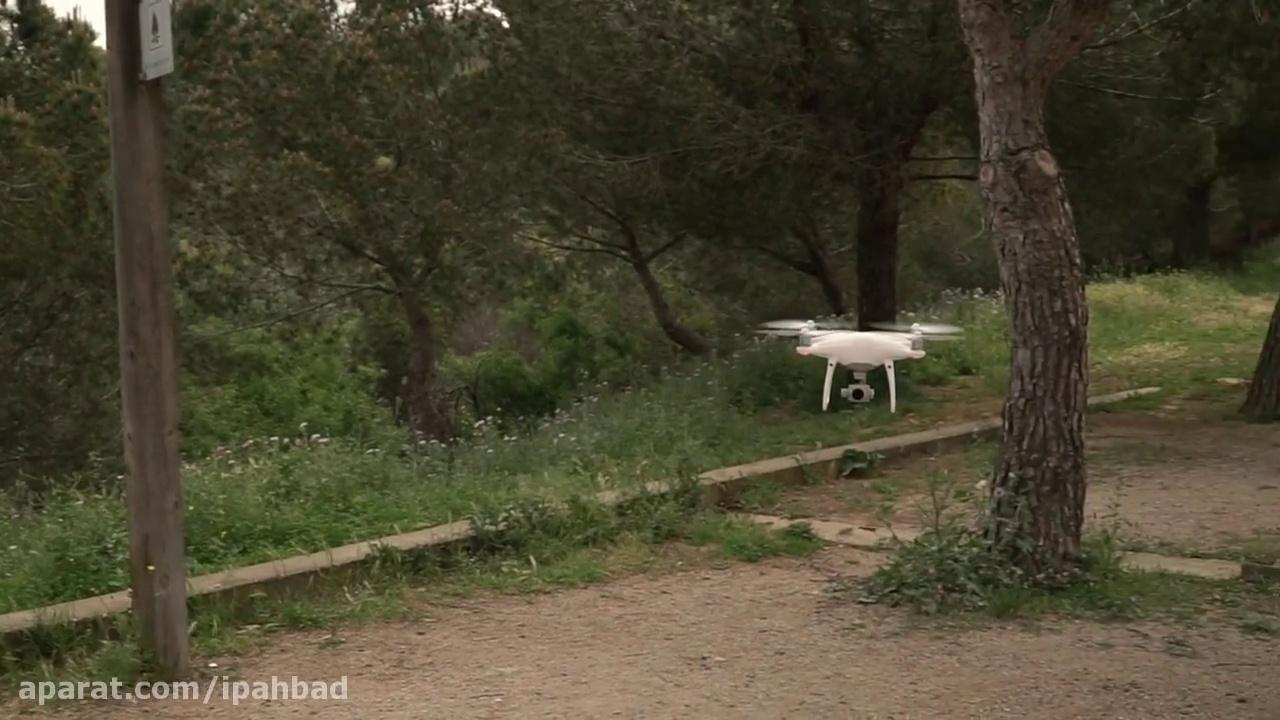drone: (752, 317, 970, 413)
